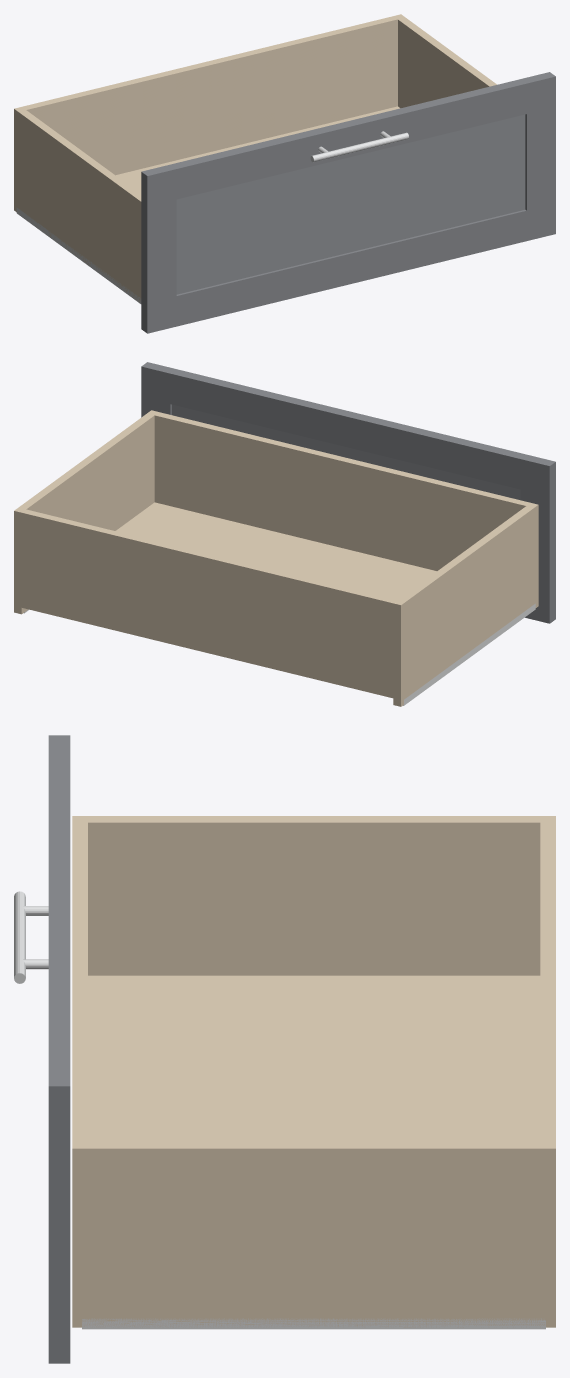
File: skuff_K3_2.glb
3 views of the same model, one above another, from view 1: azimuth 30°, elevation 25°; view 2: azimuth 150°, elevation 25°; view 3: azimuth 270°, elevation 25° (orthographic). The views are drawn at different scales.
Bounding box in the file's own units: 841 × 310 × 549.
